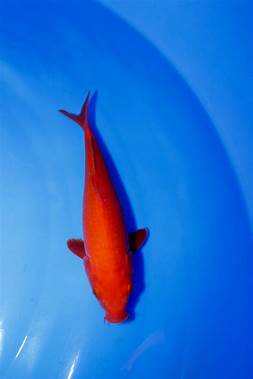red: (57, 90, 150, 324)
